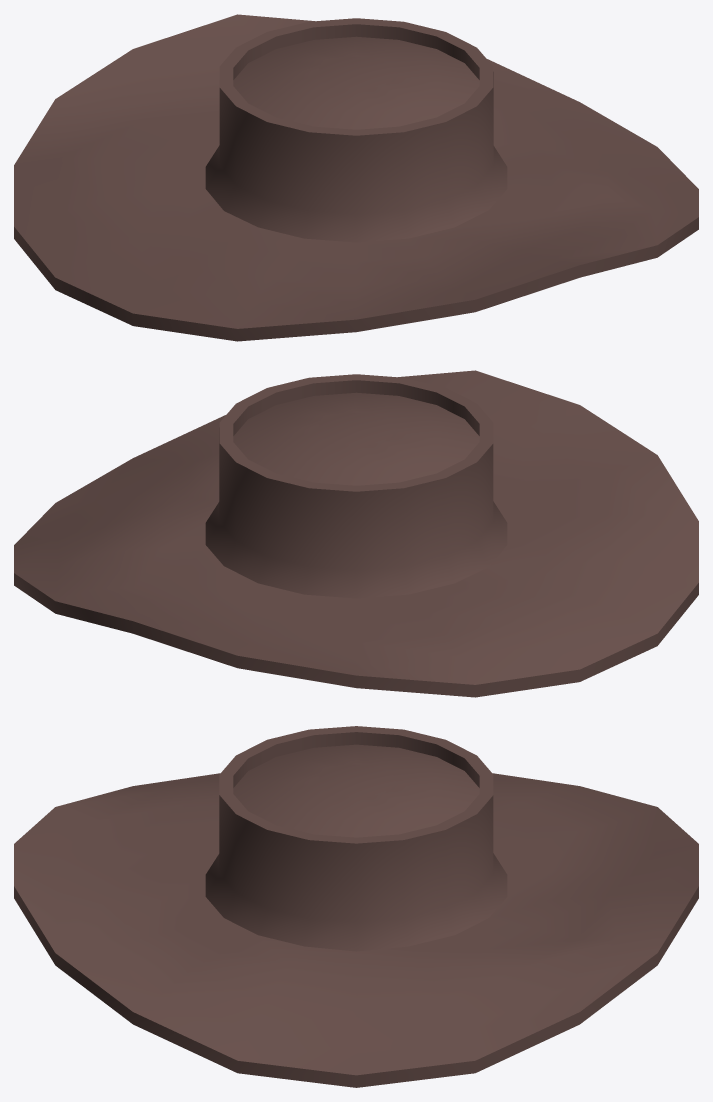
3 views of the same model, one above another, from view 1: azimuth 30°, elevation 25°; view 2: azimuth 150°, elevation 25°; view 3: azimuth 270°, elevation 25° (orthographic).
Parts seen in each view (by area): view 1: Hat; view 2: Hat; view 3: Hat.
Boxes of the visible parts, x1=… form: Hat: x1=14, y1=14, x2=698, y2=341; Hat: x1=14, y1=370, x2=698, y2=697; Hat: x1=14, y1=726, x2=698, y2=1087.
Size of the model in its own units: 50 by 12.87 by 49.24.
